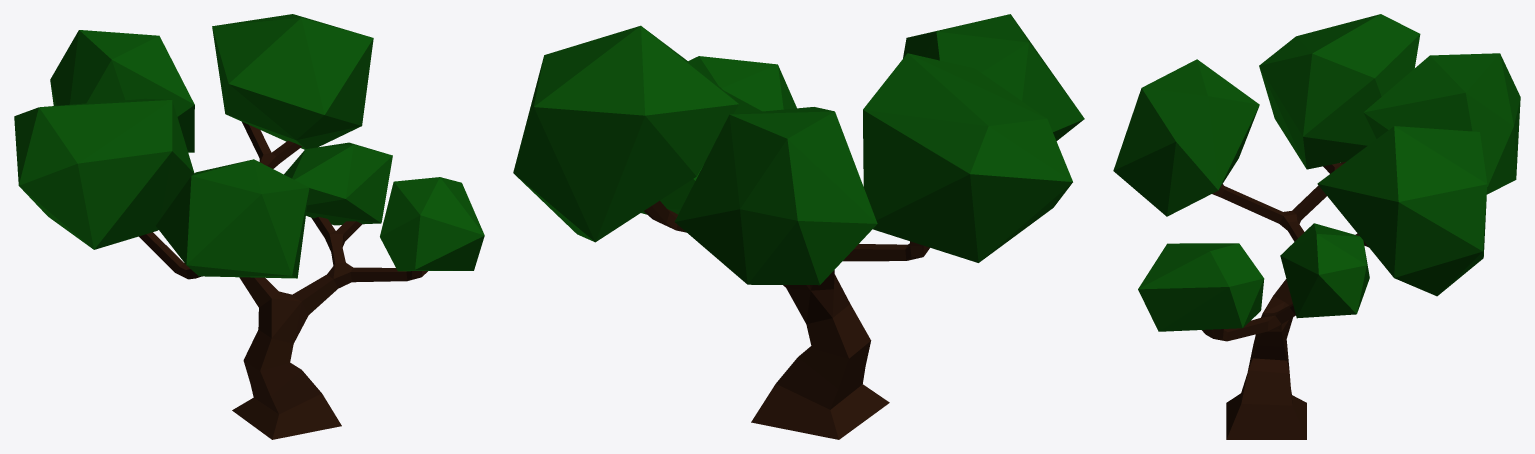
File: volgroeide boom.fbx
3 renders of one model, left to right at view 1: azimuth 30°, elevation 25°; view 2: azimuth 150°, elevation 25°; view 3: azimuth 270°, elevation 25°, orthographic. The views are drawn at different scales.
Parts seen in each view (by area): view 1: Cube.001; view 2: Cube.001; view 3: Cube.001.
Boxes of the visible parts, x1=… form: Cube.001: x1=14, y1=14, x2=484, y2=439; Cube.001: x1=513, y1=14, x2=1084, y2=439; Cube.001: x1=1113, y1=14, x2=1520, y2=439.
Bounding box in the file's own units: 6.57 × 5.4 × 5.96.
